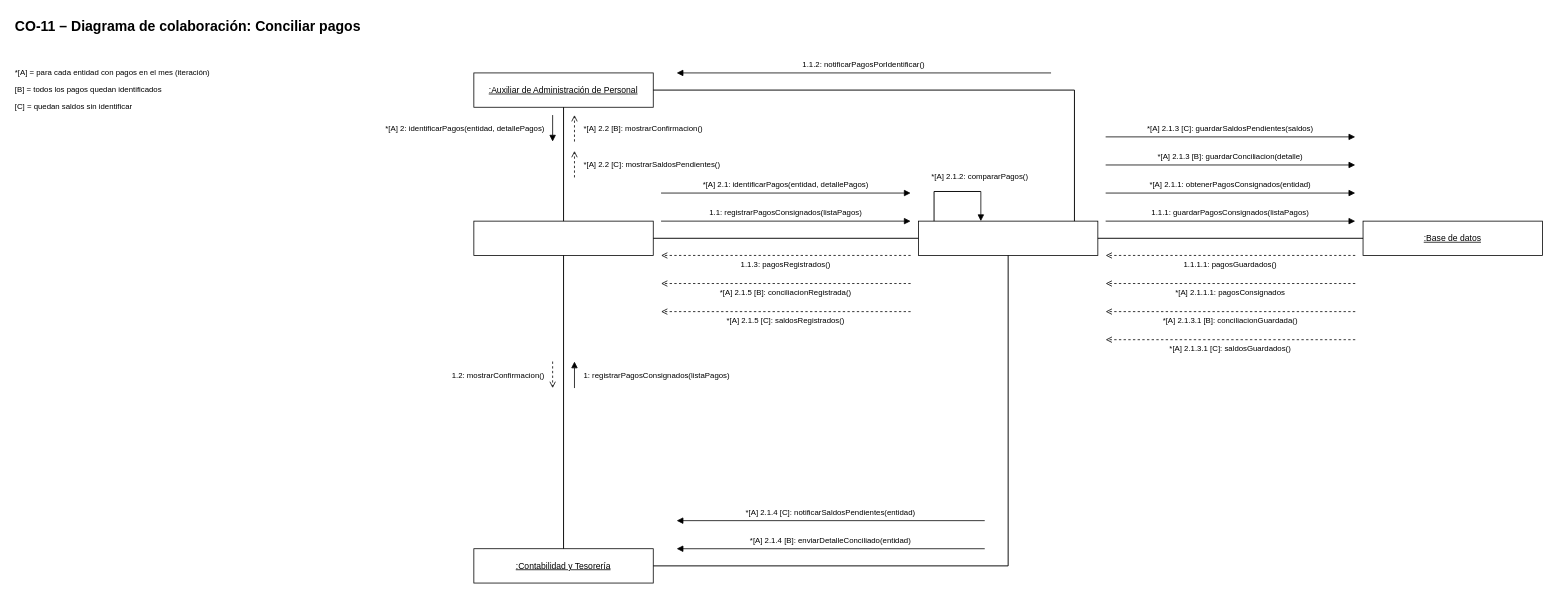
Image size: 1556x597. Some labels were removed from this diagram. Here are the shapes that lost their labels. From the top down, the centre of each, then its label:
At [563,237]: ":Interfaz de incapacidades".
At [1008,237]: ":Control de incapacidades".
